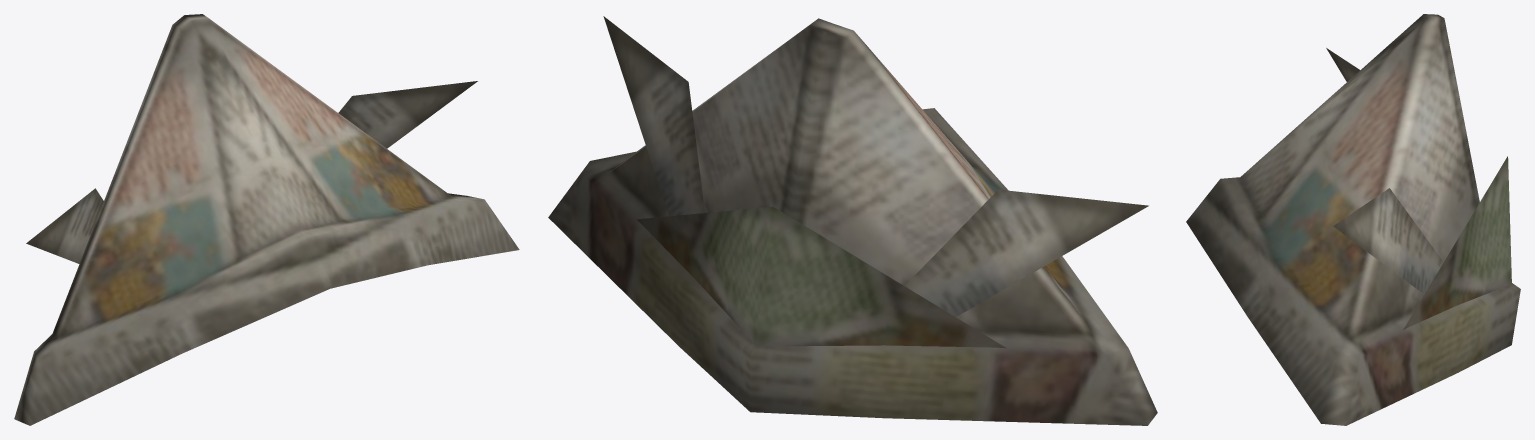
File: paperHat.glb
The picture shows the model from 3 angles, left to right: view 1: azimuth 30°, elevation 25°; view 2: azimuth 150°, elevation 25°; view 3: azimuth 270°, elevation 25°; orthographic projection. The views are drawn at different scales.
Visible parts, largest first — view 1: paperHat; view 2: paperHat; view 3: paperHat.
Boxes of the visible parts, x1=… form: paperHat: x1=14, y1=14, x2=519, y2=425; paperHat: x1=548, y1=16, x2=1157, y2=425; paperHat: x1=1186, y1=14, x2=1520, y2=425.
Size of the model in its own units: 0.2448 by 0.147 by 0.1376.
1 material, 1 textured.
